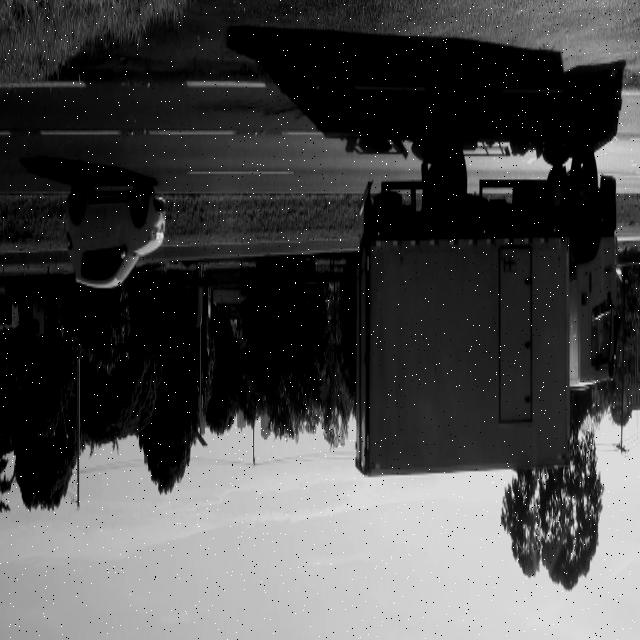-axle: (432, 140, 473, 220), (570, 134, 601, 218)
